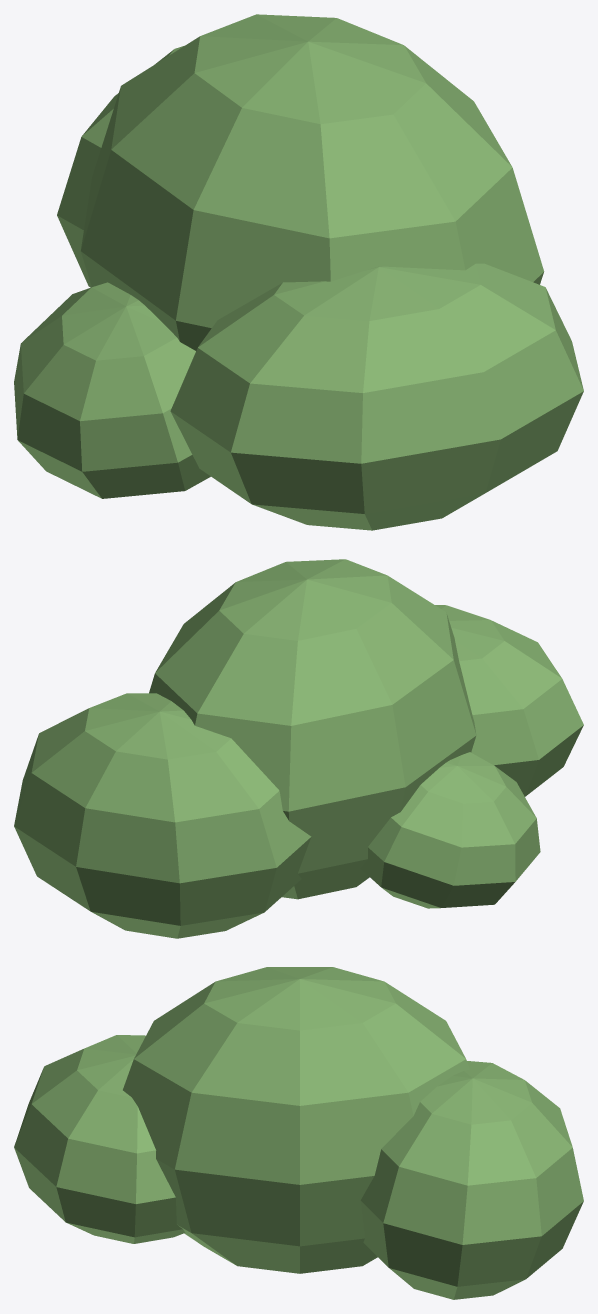
The model's file is bosje1.fbx.
3 renders of one model, top to bottom at view 1: azimuth 30°, elevation 25°; view 2: azimuth 150°, elevation 25°; view 3: azimuth 270°, elevation 25°, orthographic. The views are drawn at different scales.
Visible parts, largest first — view 1: bosje_1; view 2: bosje_1; view 3: bosje_1.
Part boxes in pixels (x1,y1,x2,y2): bosje_1: [14, 14, 583, 530]; bosje_1: [14, 559, 583, 938]; bosje_1: [14, 967, 583, 1299].
Size of the model in its own units: 5.51 by 3.83 by 7.04.
